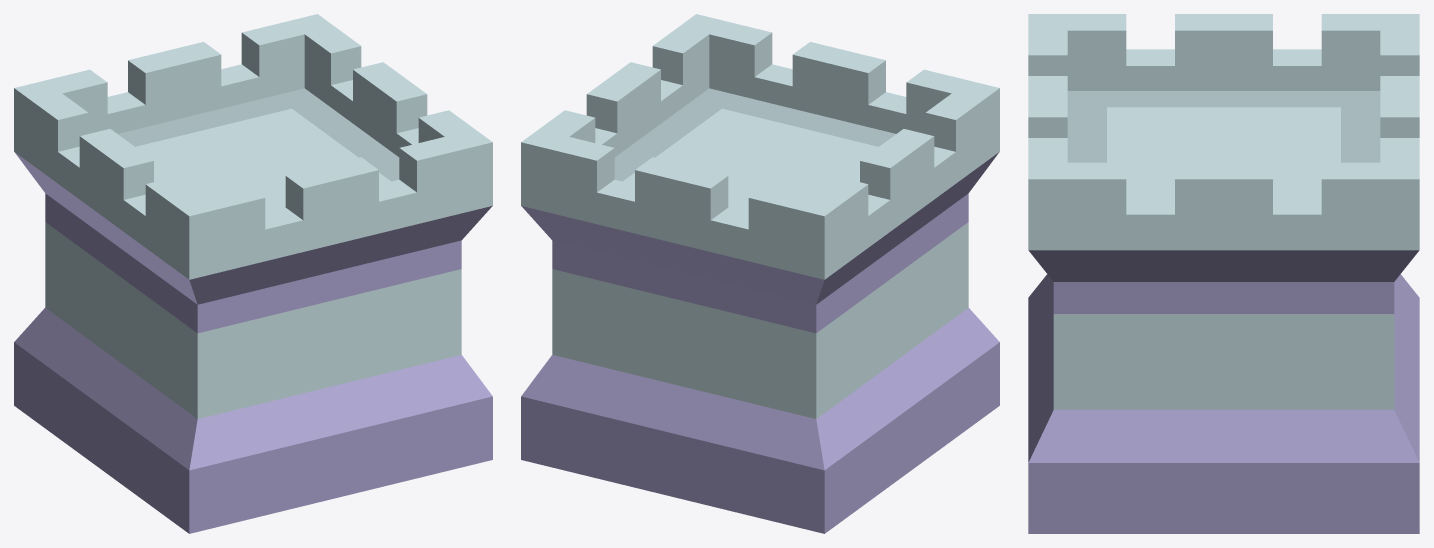
Rendered from towerSquare_sampleD.glb.
The picture shows the model from 3 angles, left to right: view 1: azimuth 30°, elevation 25°; view 2: azimuth 150°, elevation 25°; view 3: azimuth 270°, elevation 25°; orthographic projection. The views are drawn at different scales.
Parts seen in each view (by area): view 1: towerSquare_sampleD; view 2: towerSquare_sampleD; view 3: towerSquare_sampleD.
Part boxes in pixels (x1,y1,x2,y2): towerSquare_sampleD: (14, 14, 492, 533); towerSquare_sampleD: (521, 14, 999, 533); towerSquare_sampleD: (1028, 14, 1419, 533).
Size of the model in its own units: 1 by 1 by 1.
